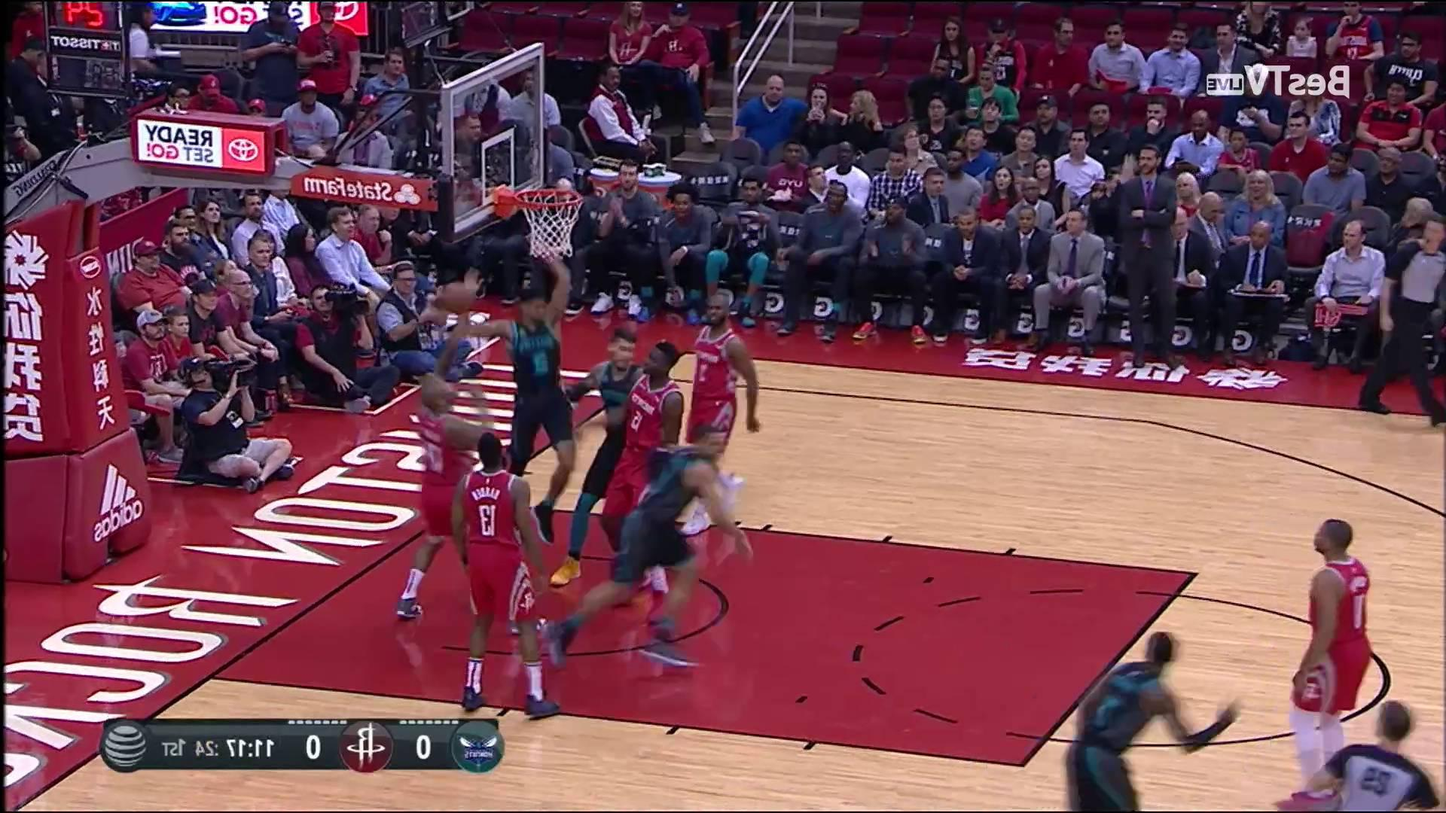basketball: (443, 276, 473, 314)
